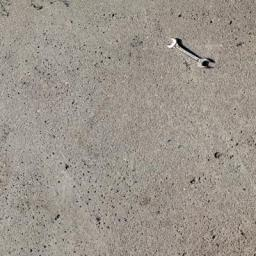FOD: (165, 36, 216, 71)
